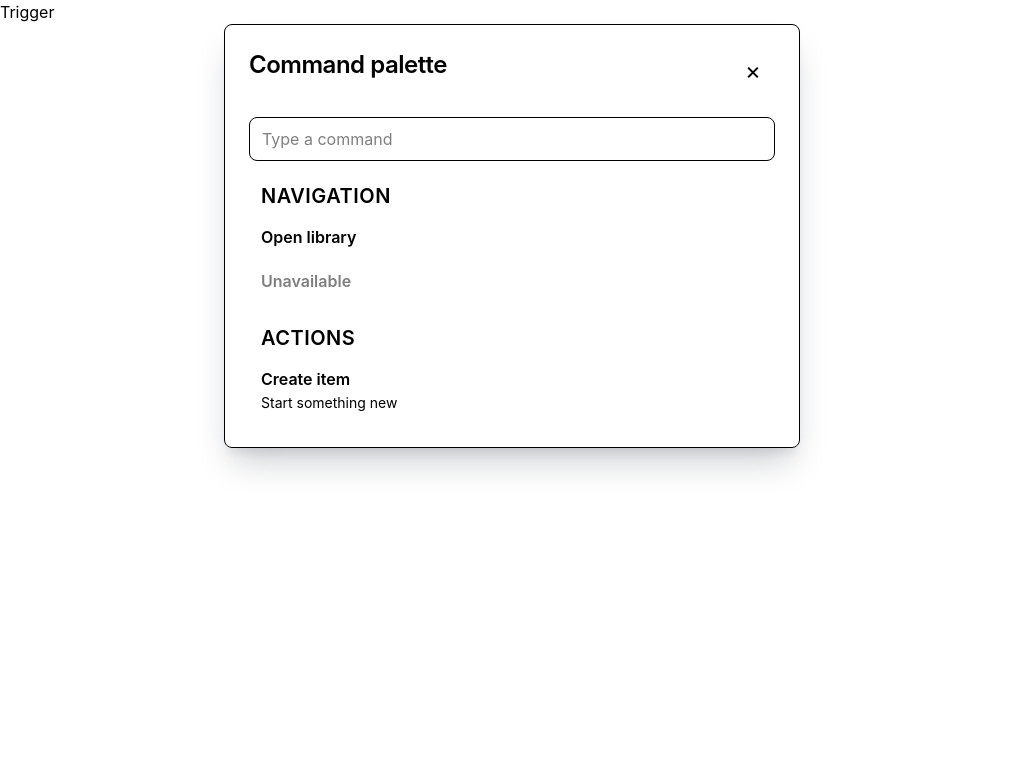
Scenario: CommandPaletteComponent › announces an empty result set
Type "no result" into the dropdown with placeholder "Type a command".
click(512, 139); type("no result")  # box [249,117,775,161]
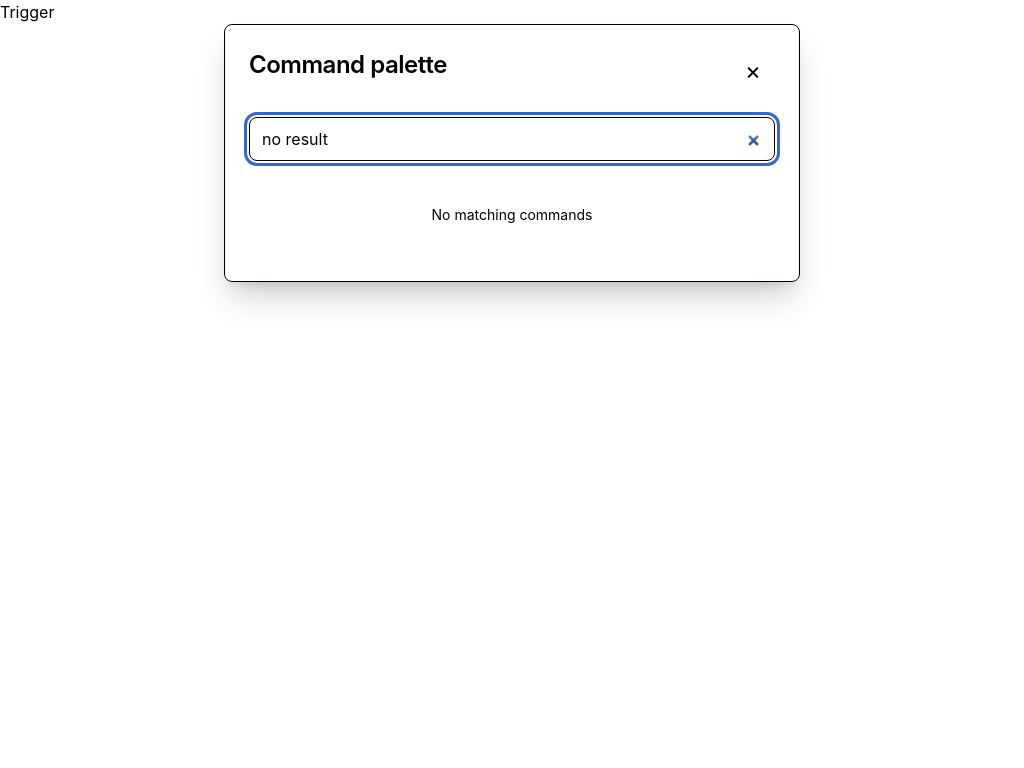
Result: the message "No matching commands" is shown at [432,206,592,223]
